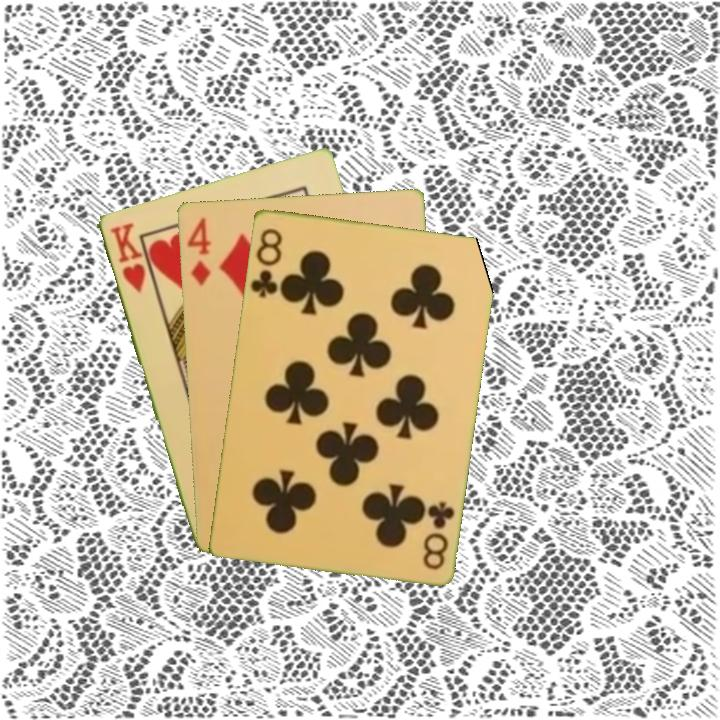4d: (183, 214, 213, 288)
8c: (246, 224, 285, 301), (419, 497, 457, 572)
Kh: (105, 218, 148, 296)
